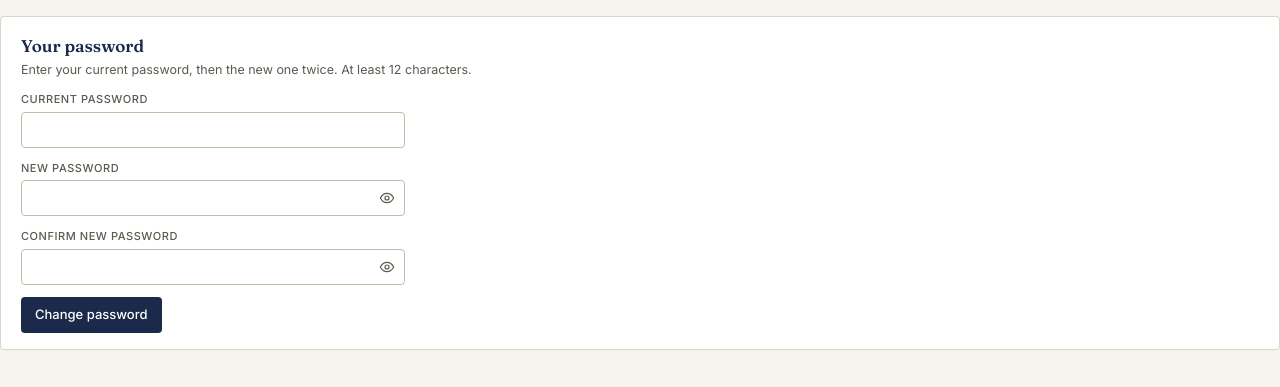
Scenario: PasswordForm › keeps what was typed and shows the reason when the change is refused
This screenshot has width=1280, height=387.
Type "wrong-password-123" into the password field labelled "Current password" at (213,130), box left=21, top=112, right=405, bottom=148
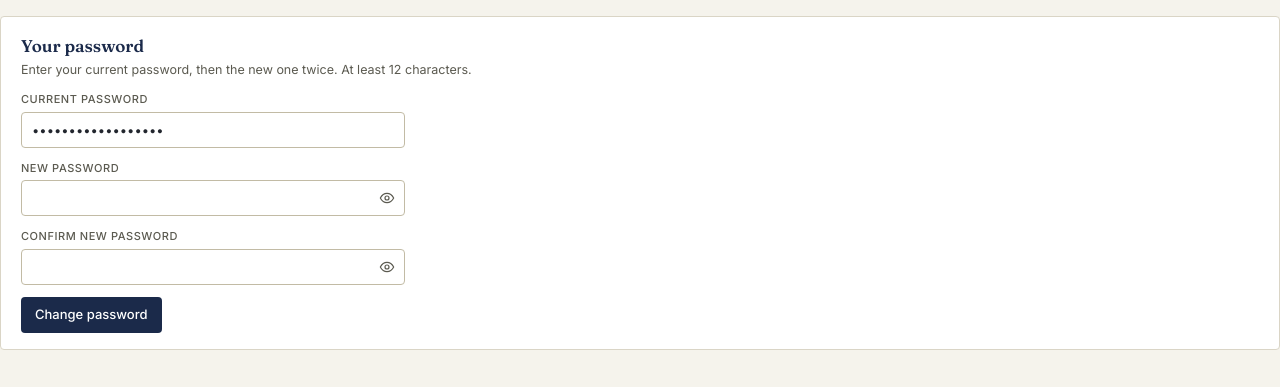
Type "new-password-4567" into the password field labelled "New password" at (213,198), box left=21, top=180, right=405, bottom=216
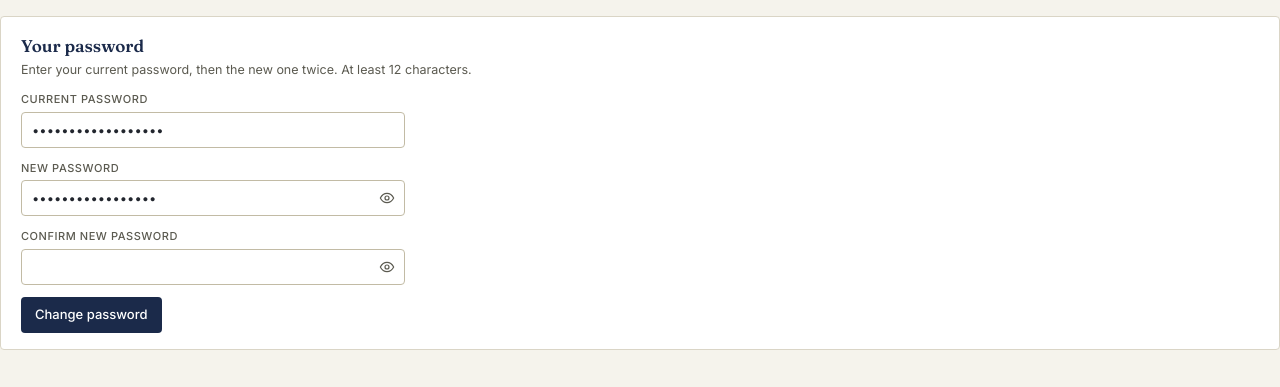
Type "new-password-4567" into the password field labelled "Confirm new password" at (213,267), box left=21, top=249, right=405, bottom=285
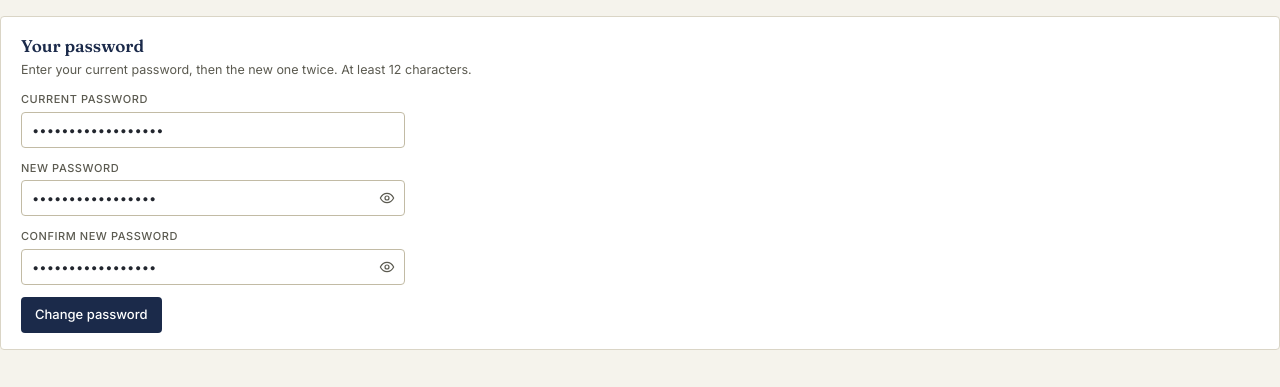
Click the button "Change password" at (91,315), box left=21, top=297, right=162, bottom=333
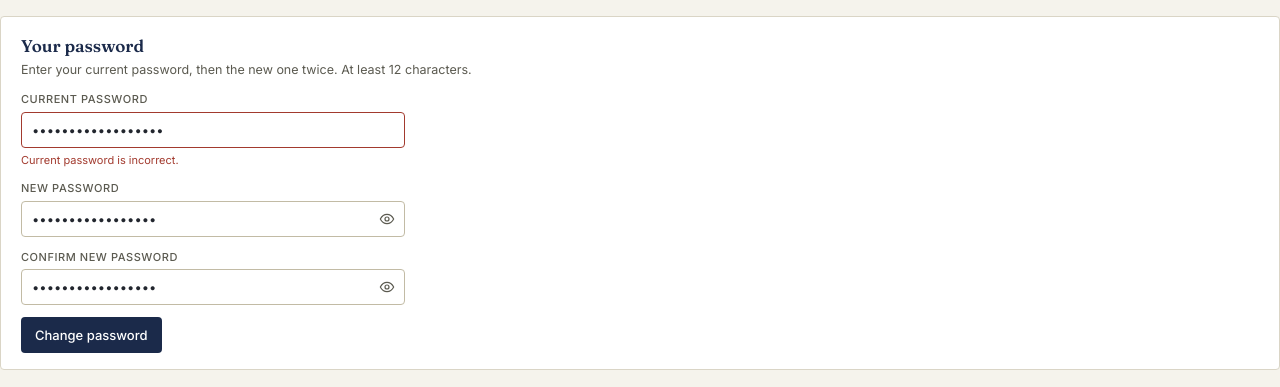
Check: the text "Current password is incorrect." is shown, box left=21, top=153, right=179, bottom=167
